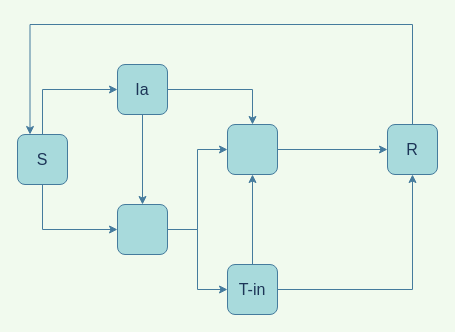
This 455x332 diagram has some shape labels left out. Each missing label, with the centre of its shape:
Is: point (142, 229)
T-out: point (252, 149)
